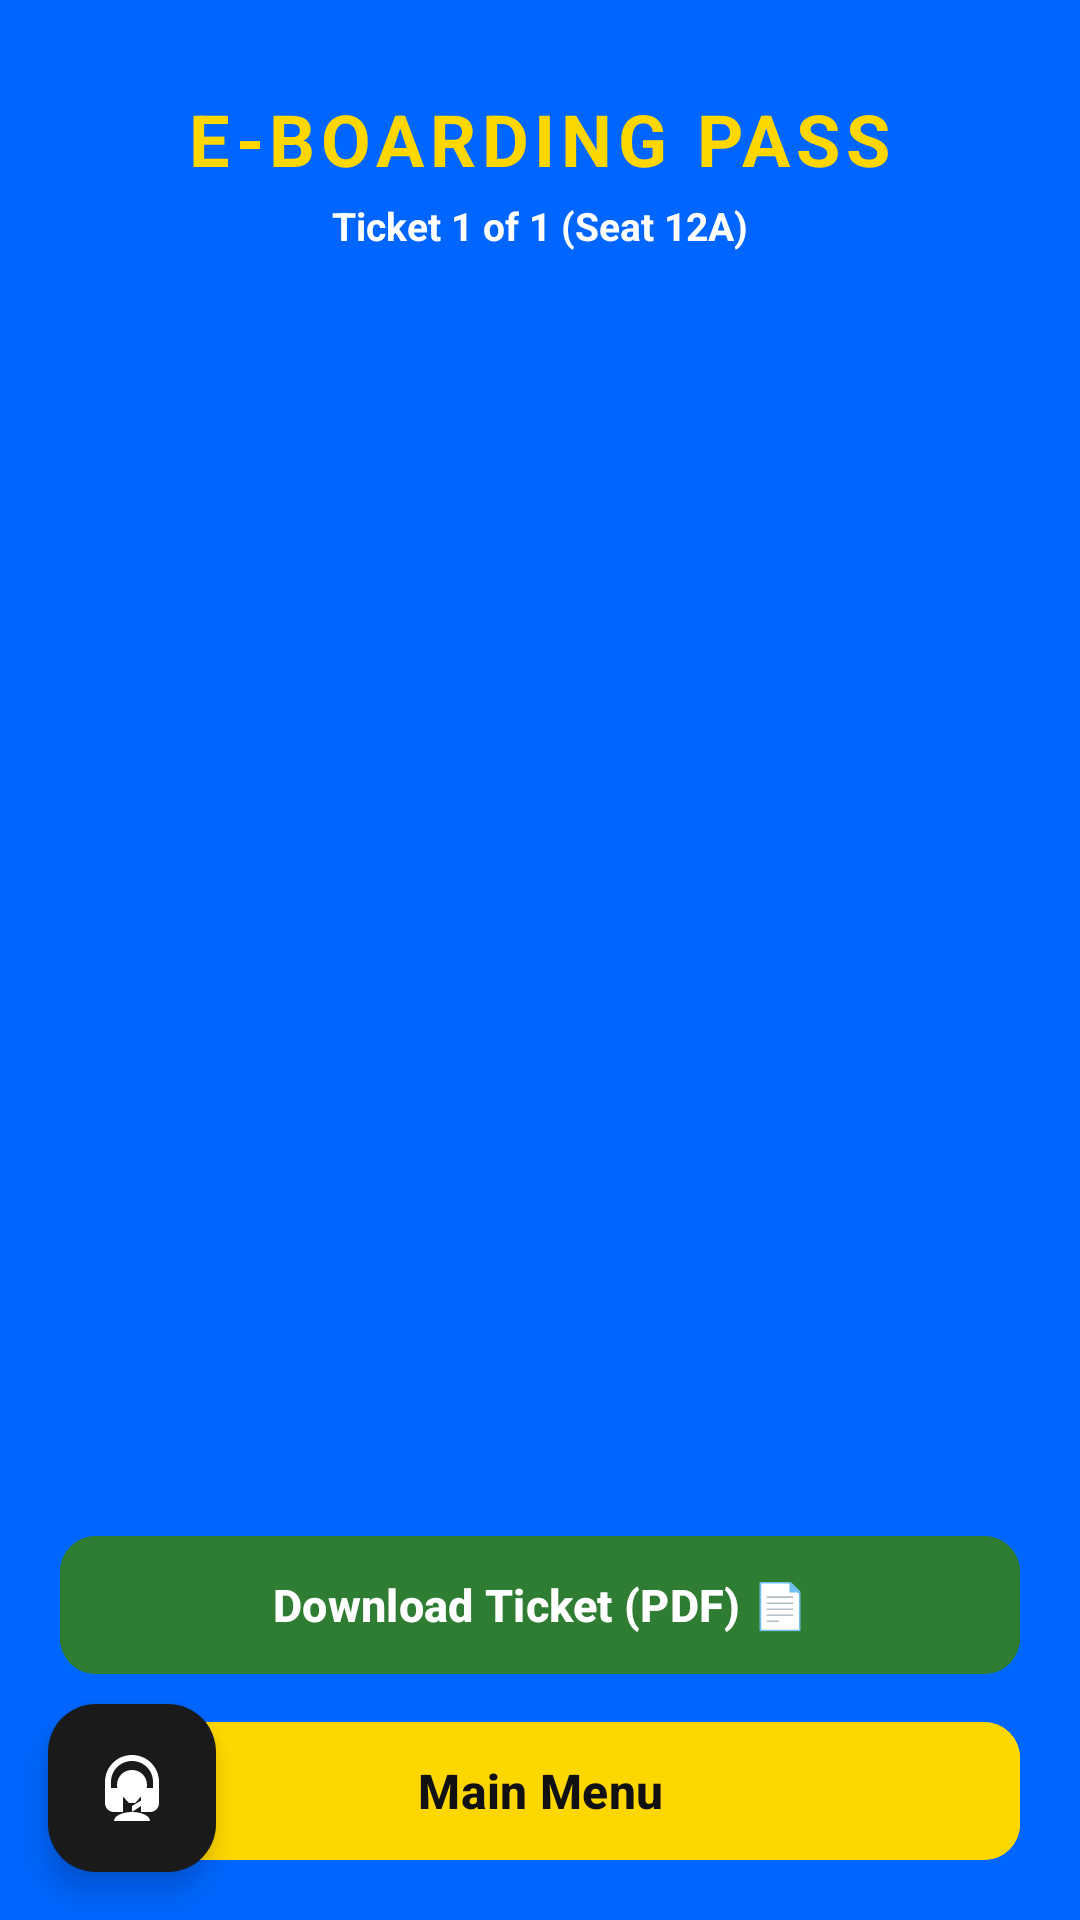

Icons on this 1080 x 1920 Android screen, each with the point to tap as (x=x, y=y):
AI Support: (x=132, y=1788)
